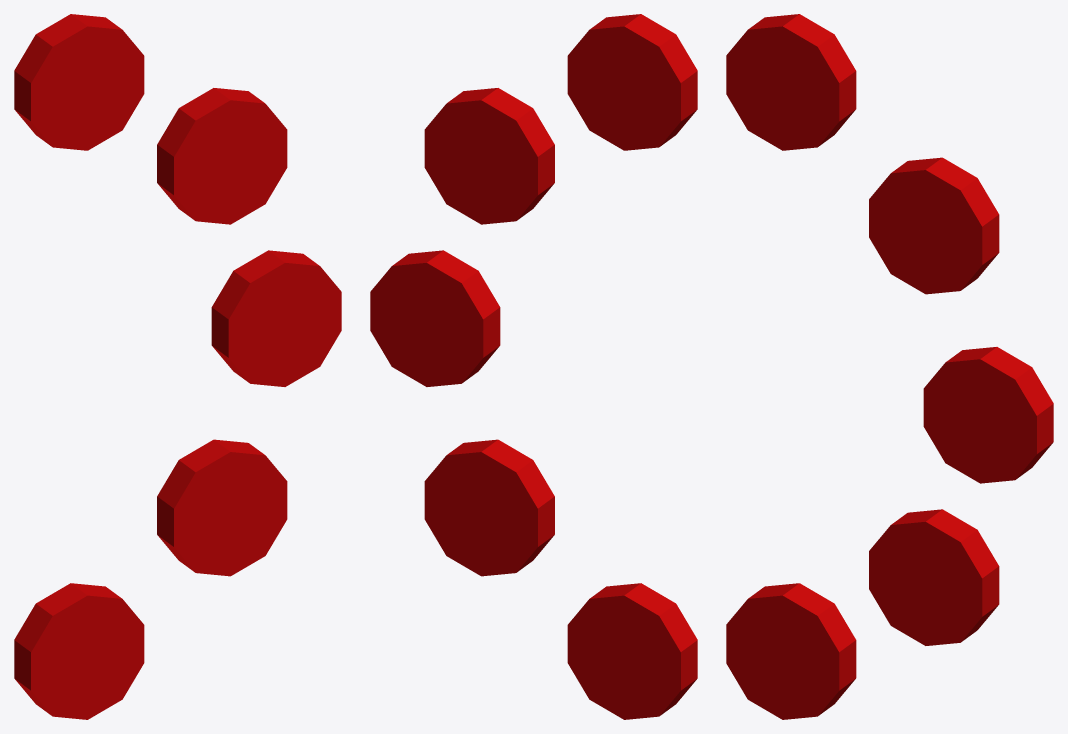
The model's file is heatmarkerspots.obj.
3 renders of one model, left to right at view 1: azimuth 30°, elevation 25°; view 2: azimuth 150°, elevation 25°; view 3: azimuth 330°, elevation 25°, orthographic.
Visible parts, largest first — view 1: Cylinder.010_Cylinder.000; view 2: Cylinder.010_Cylinder.000; view 3: Cylinder.010_Cylinder.000.
Boxes of the visible parts, <box> form: Cylinder.010_Cylinder.000: <box>14,14,341,719</box>; Cylinder.010_Cylinder.000: <box>370,14,697,719</box>; Cylinder.010_Cylinder.000: <box>726,14,1053,719</box>.
Size of the model in its own units: 0.0362 by 0.0772 by 0.00342.
